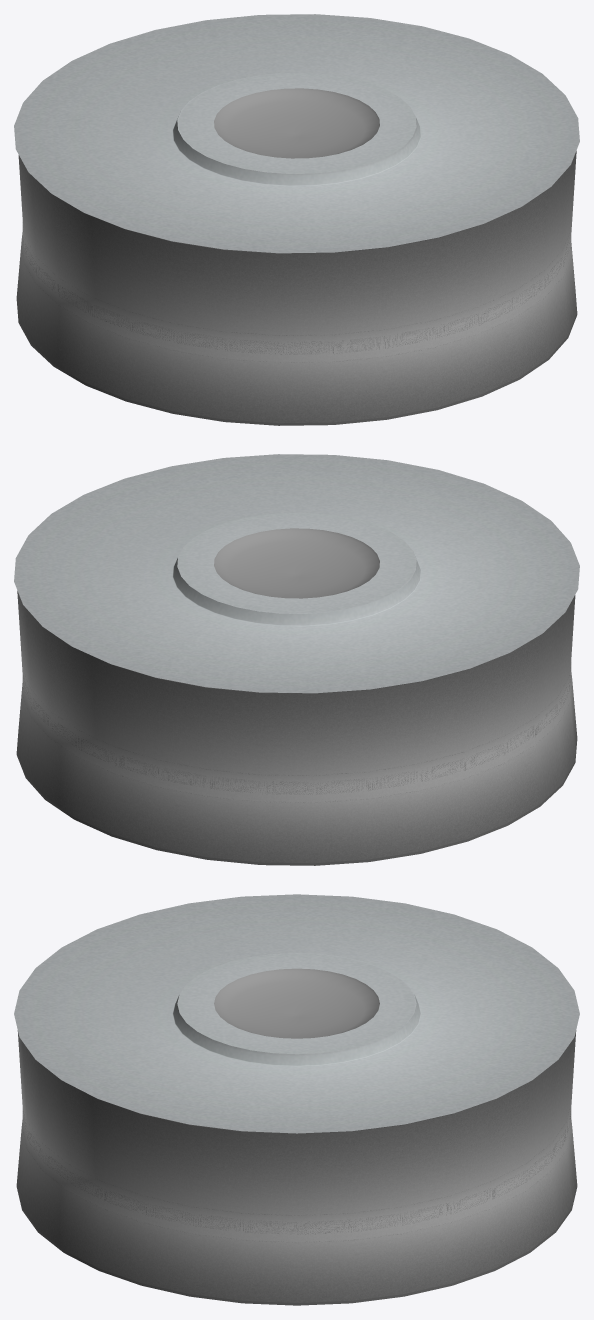
3 views of the same model, one above another, from view 1: azimuth 30°, elevation 25°; view 2: azimuth 150°, elevation 25°; view 3: azimuth 270°, elevation 25° (orthographic).
Parts seen in each view (by area): view 1: Dummy010, polySurface27; view 2: Dummy010, polySurface27; view 3: Dummy010, polySurface27.
Part boxes in pixels (left/top/right/bottom): Dummy010: left=14, top=14, right=579, bottom=425; polySurface27: left=214, top=88, right=379, bottom=158; Dummy010: left=14, top=454, right=579, bottom=865; polySurface27: left=214, top=528, right=379, bottom=598; Dummy010: left=14, top=894, right=579, bottom=1305; polySurface27: left=214, top=968, right=379, bottom=1038.
Bounding box in the file's own units: 1367 × 489 × 1367.
